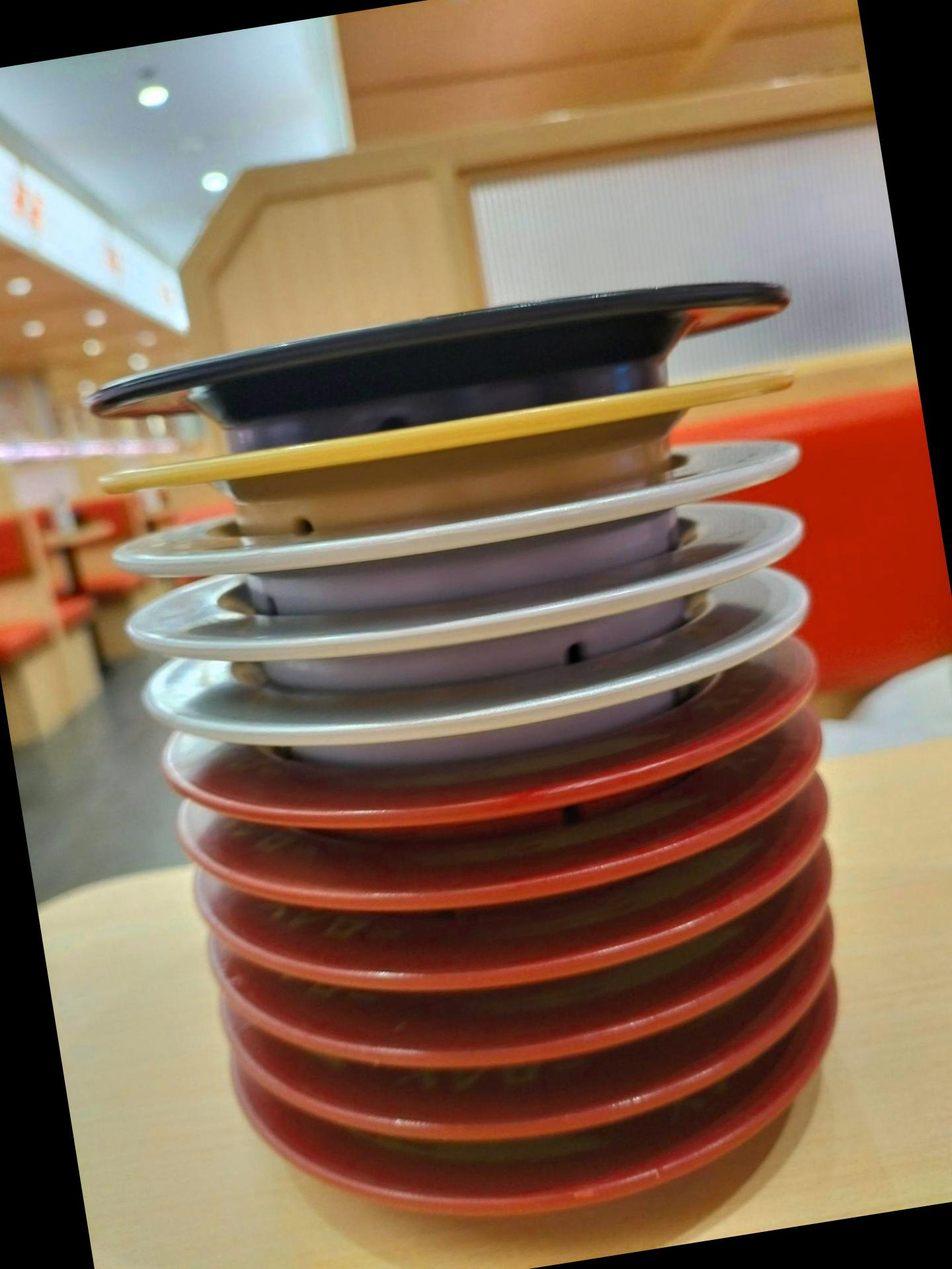Janback: (79, 247, 808, 468)
Jangold: (98, 360, 811, 560)
Janred: (181, 681, 830, 878), (257, 854, 833, 1018), (266, 941, 796, 1099), (234, 790, 789, 939), (306, 1018, 810, 1173), (337, 1097, 826, 1254)
Janwhite: (200, 600, 748, 773), (152, 531, 757, 687), (152, 475, 777, 621)
